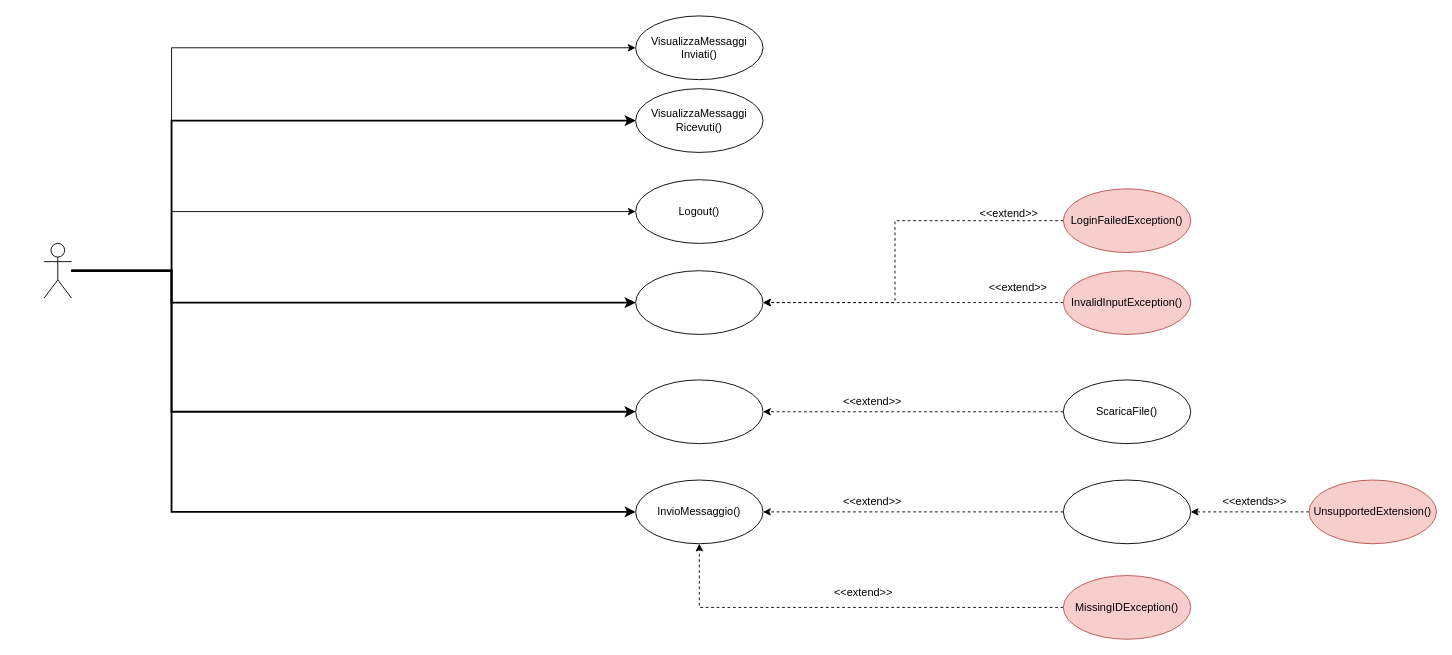
The diagram is 1452 pixels wide and 655 high, and some of its shapes have lost their labels. The box of each missing label's shape, as (x1, y1, x2, y2) in pixels:
CaricaFile(): (1062, 479, 1191, 544)
LeggiMessaggio(): (635, 379, 763, 444)
Login(): (635, 270, 763, 334)
Utente Registrato: (43, 243, 71, 298)
